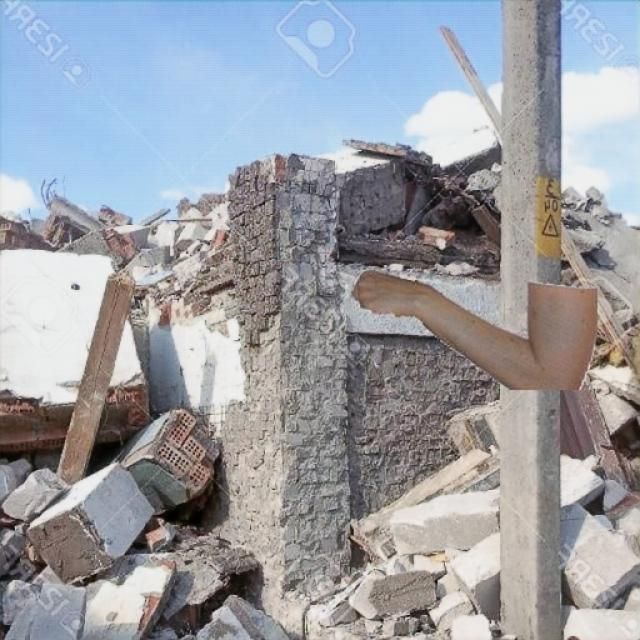Person in Rubble: (350, 269, 596, 389)
